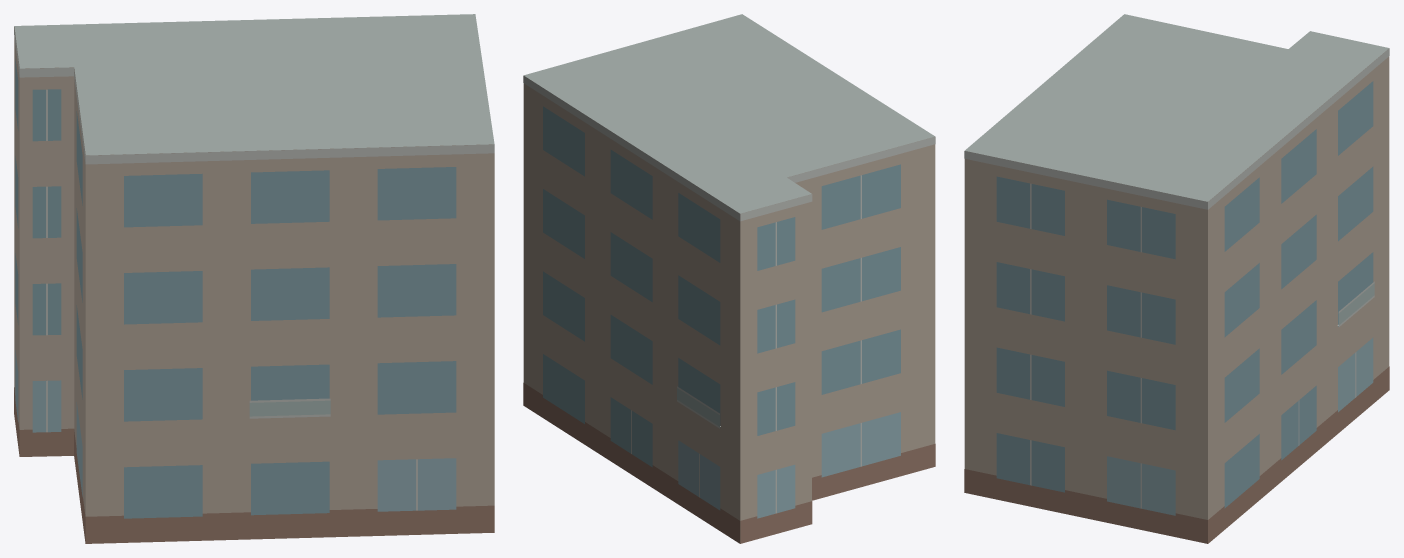
The model's file is survey-upis-32534388.glb.
The picture shows the model from 3 angles, left to right: view 1: azimuth 30°, elevation 25°; view 2: azimuth 150°, elevation 25°; view 3: azimuth 270°, elevation 25°; orthographic projection. The views are drawn at different scales.
Parts seen in each view (by area): view 1: survey-upis-32534388.tmp; view 2: survey-upis-32534388.tmp; view 3: survey-upis-32534388.tmp.
Boxes of the visible parts, x1=… form: survey-upis-32534388.tmp: x1=14, y1=14, x2=494, y2=543; survey-upis-32534388.tmp: x1=523, y1=14, x2=935, y2=543; survey-upis-32534388.tmp: x1=964, y1=14, x2=1389, y2=543.
Bounding box in the file's own units: 12.37 × 10.49 × 11.82.
